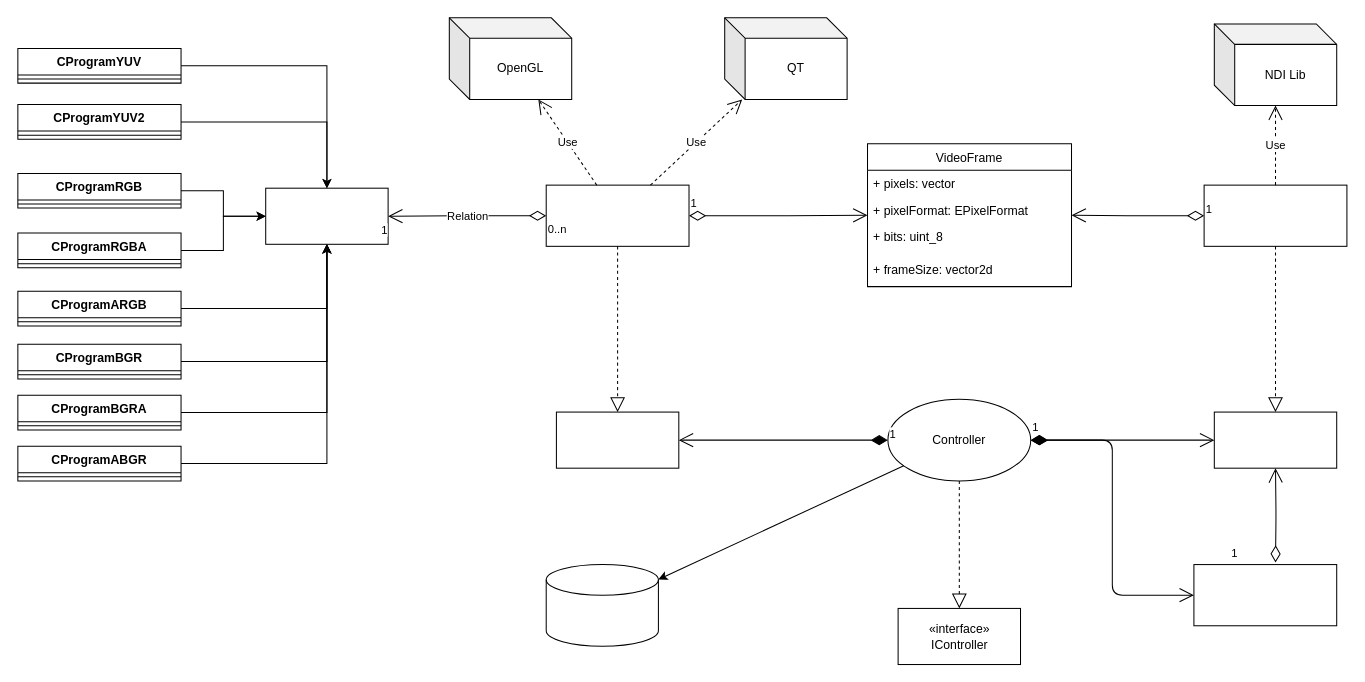
The diagram is 1365 pixels wide and 682 high, and some of its shapes have lost their labels. The centre of each missing label's shape, as x and y in pixels:
AudioPlayer: point 1265,595
Configuration Persistancy: point 601,605
NDI Decoder module: point 1275,215
Player window: point 617,215
«interface» INDIDecoder: point 1275,439
«interface» IPlayerWindow: point 617,439
«interface» IShaderProgram: point 326,215
